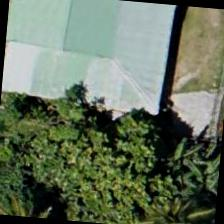Kelapa_Sawit: (128, 178, 218, 223)
